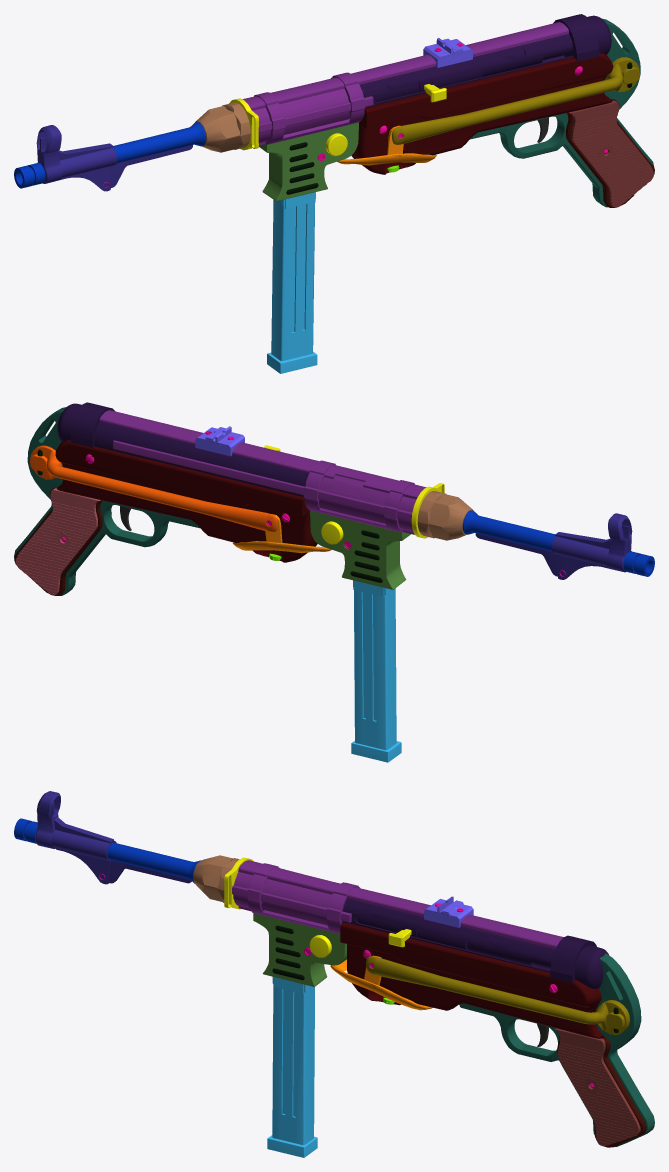
3 views of the same model, one above another, from view 1: azimuth 30°, elevation 25°; view 2: azimuth 150°, elevation 25°; view 3: azimuth 330°, elevation 25° (orthographic).
Visible parts, largest first — view 1: g pCube44, g pCube60, g pCube51, g pPipe23, g pCube27 polySurface18, g polySurface4, g pPipe21, g pCube53, g pCylinder19, g pPipe20, g pCylinder61, g polySurface32 (+4 smaller); view 2: g pCube44, g pCube60, g pCube51, g pPipe23, g polySurface19 pCube27, g polySurface12, g pCube53, g pPipe21, g pCylinder19, g pPipe20, g pCylinder61, g pPipe8 (+4 smaller); view 3: g pCube44, g pCube60, g pCube51, g pPipe23, g pCube27 polySurface18, g pCylinder19, g polySurface4, g pPipe21, g pCube53, g pPipe20, g pCylinder61, g polySurface32 (+4 smaller).
Boxes of the visible parts, left/top/right/bottom form: g pCube44: left=351, top=52, right=613, bottom=174; g pCube60: left=242, top=22, right=568, bottom=145; g pCube51: left=267, top=192, right=317, bottom=373; g pPipe23: left=360, top=14, right=611, bottom=107; g pCube27 polySurface18: left=569, top=100, right=653, bottom=207; g polySurface4: left=392, top=57, right=639, bottom=144; g pPipe21: left=36, top=125, right=192, bottom=191; g pCube53: left=259, top=122, right=358, bottom=201; g pCylinder19: left=470, top=18, right=653, bottom=207; g pPipe20: left=14, top=122, right=204, bottom=188; g pCylinder61: left=195, top=102, right=250, bottom=152; g polySurface32: left=229, top=84, right=446, bottom=156; g pCube44: left=55, top=440, right=317, bottom=562; g pCube60: left=99, top=410, right=426, bottom=534; g pCube51: left=351, top=580, right=401, bottom=762; g pPipe23: left=57, top=402, right=308, bottom=496; g polySurface19 pCube27: left=15, top=488, right=100, bottom=594; g polySurface12: left=30, top=445, right=277, bottom=532; g pCube53: left=310, top=510, right=410, bottom=589; g pPipe21: left=475, top=513, right=632, bottom=579; g pCylinder19: left=14, top=407, right=199, bottom=595; g pPipe20: left=463, top=510, right=654, bottom=576; g pCylinder61: left=417, top=491, right=473, bottom=540; g pPipe8: left=233, top=514, right=331, bottom=553; g pCube44: left=340, top=922, right=603, bottom=1038; g pCube60: left=232, top=860, right=563, bottom=948; g pCube51: left=267, top=977, right=317, bottom=1157; g pPipe23: left=342, top=898, right=608, bottom=988; g pCube27 polySurface18: left=555, top=1028, right=640, bottom=1146; g pCylinder19: left=459, top=953, right=654, bottom=1146; g polySurface4: left=366, top=956, right=629, bottom=1034; g pPipe21: left=35, top=791, right=191, bottom=884; g pCube53: left=253, top=913, right=346, bottom=986; g pPipe20: left=14, top=818, right=200, bottom=883; g pCylinder61: left=193, top=855, right=239, bottom=902; g polySurface32: left=224, top=857, right=411, bottom=957.
Bounding box in the file's own units: 2 × 0.8958 × 0.2048.
